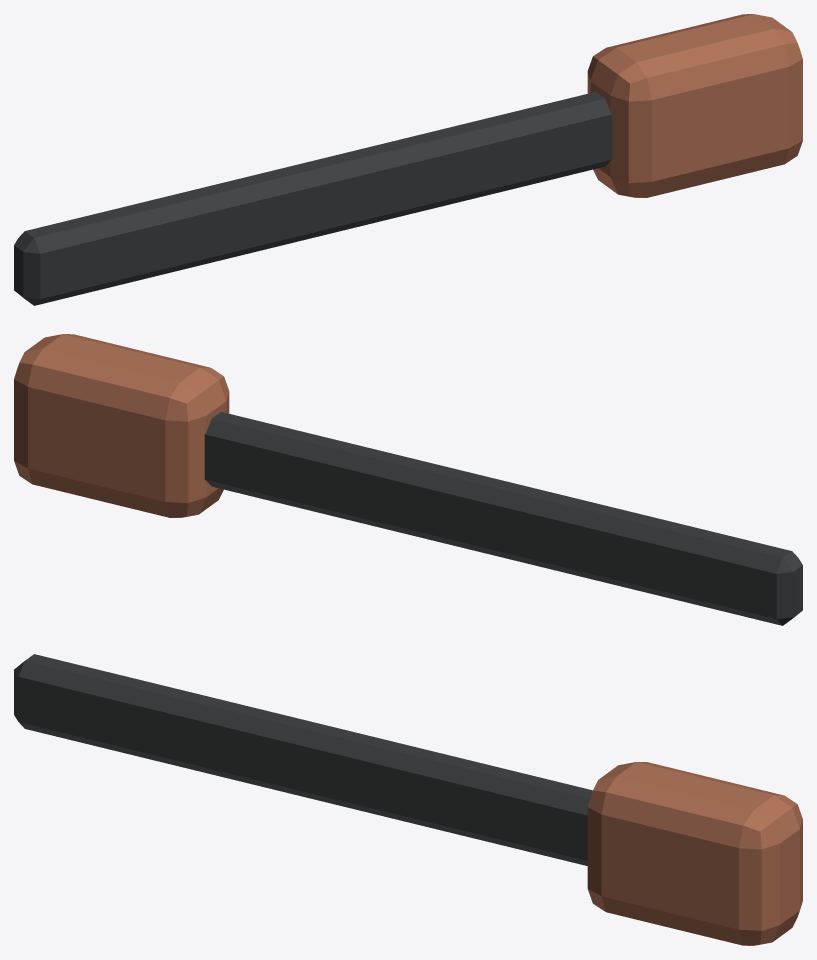
Rendered from swivel_bar_stool_height_lever.glb.
3 renders of one model, top to bottom at view 1: azimuth 30°, elevation 25°; view 2: azimuth 150°, elevation 25°; view 3: azimuth 330°, elevation 25°, orthographic.
Parts seen in each view (by area): view 1: export_tmp; view 2: export_tmp; view 3: export_tmp.
Boxes of the visible parts, x1,y1,x2,y2 form: export_tmp: [14, 14, 802, 305]; export_tmp: [14, 334, 802, 625]; export_tmp: [14, 654, 802, 945].
Size of the model in its own units: 0.1425 by 0.024 by 0.016.
